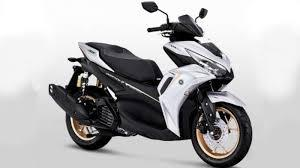motorcycle: (42, 0, 262, 168)
